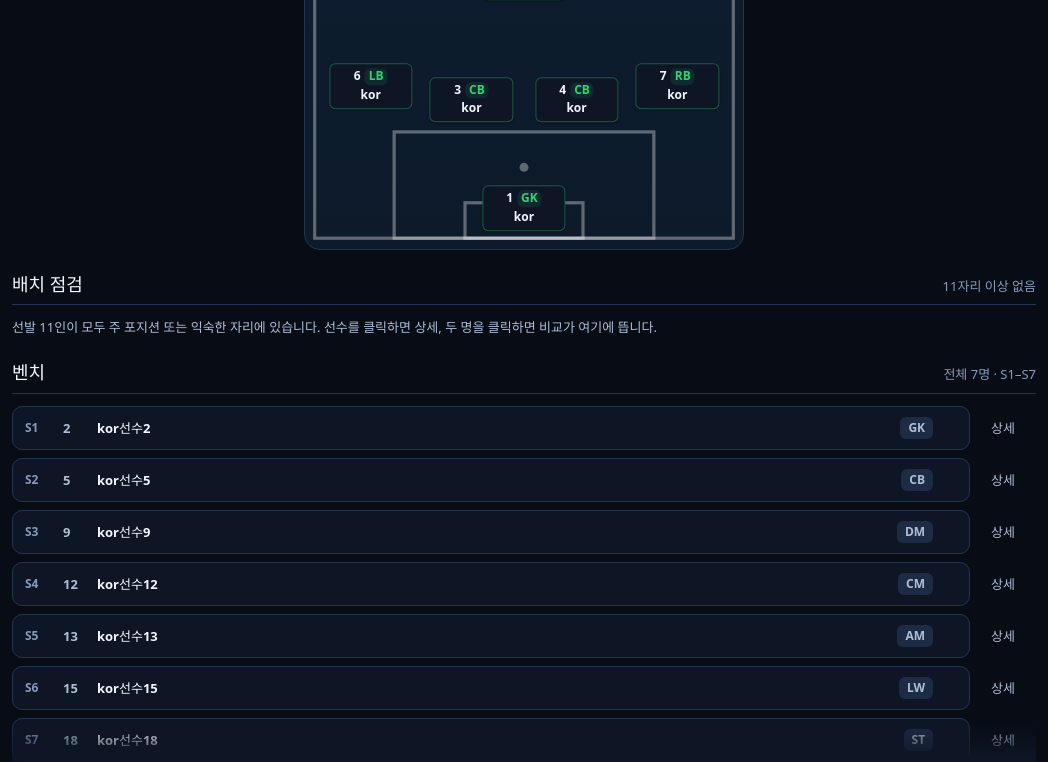
2명 클릭 → 나란히 비교 + 실행 버튼 › 벤치+벤치면 실행 버튼이 비활성이고 이유를 적는다
(page scrolled)
Step 1. Click the 1st button with class "lu-card" → coordinates (124, 428), box left=12, top=406, right=970, bottom=450
(page scrolled)
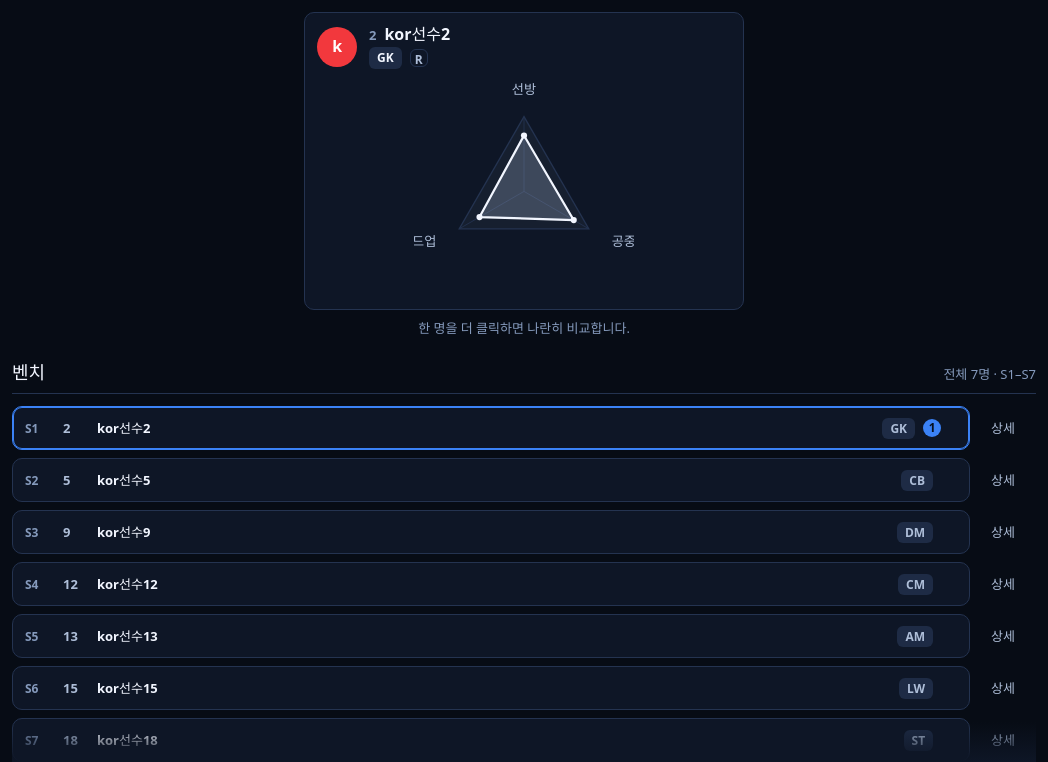
Step 2. Click the 2nd button with class "lu-card" → coordinates (124, 480), box left=12, top=458, right=970, bottom=502
(page scrolled)
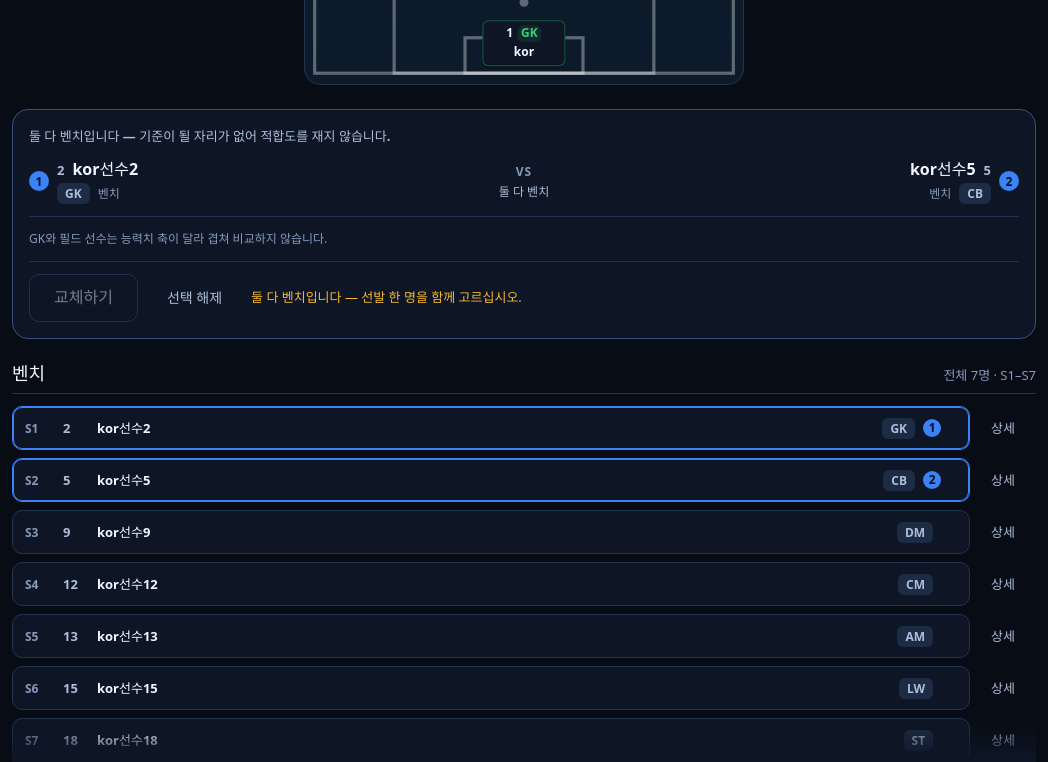
Check: the button "교체하기" is disabled, box left=29, top=274, right=138, bottom=322
Check: the text with class "lu-exec__hint" shows "선발 한 명", box left=251, top=288, right=522, bottom=306
Check: the element with class "cmp" is shown, box left=12, top=109, right=1036, bottom=339
